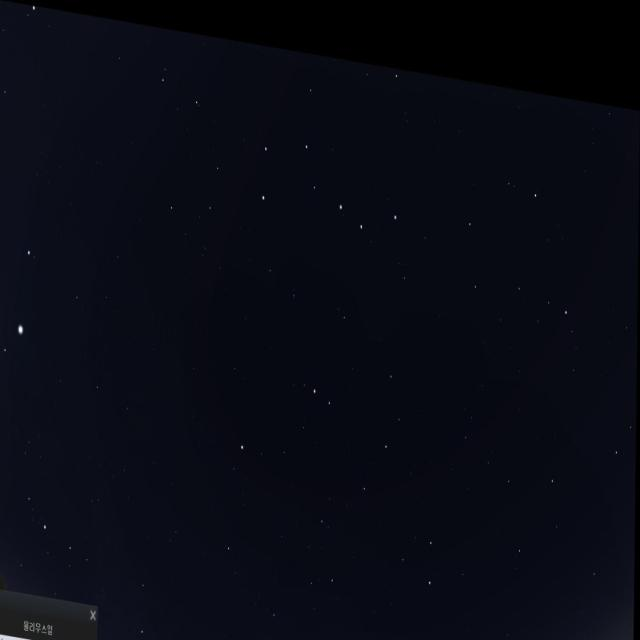ursa_major: (258, 108, 415, 258)
